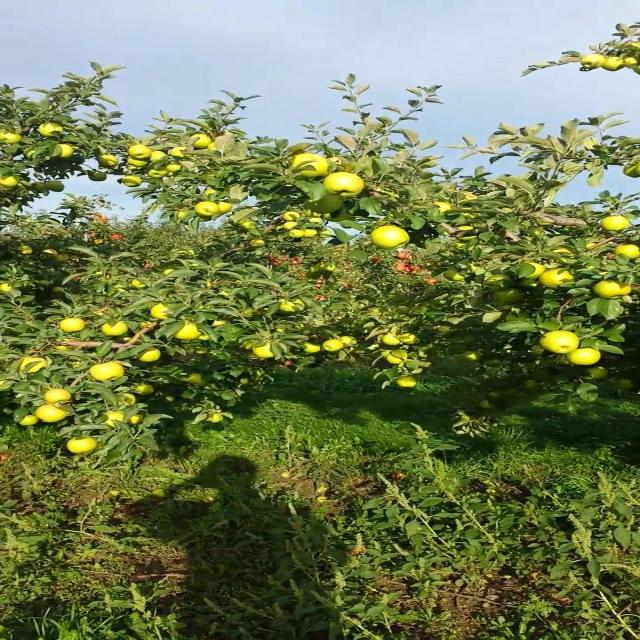apple: (291, 156, 329, 179), (326, 176, 364, 197), (376, 228, 412, 250), (547, 332, 581, 353), (568, 348, 603, 366), (596, 284, 633, 300), (92, 364, 126, 381), (540, 272, 576, 288), (596, 284, 629, 300), (312, 196, 345, 212), (604, 216, 631, 232), (70, 440, 100, 454), (42, 408, 66, 423), (20, 360, 50, 372), (177, 324, 199, 340), (497, 292, 526, 304), (527, 264, 548, 279), (326, 212, 354, 223), (582, 56, 604, 69), (490, 276, 512, 289), (56, 144, 75, 159), (63, 320, 85, 332), (106, 324, 128, 336), (49, 392, 71, 404), (134, 384, 156, 396), (191, 136, 213, 148), (99, 156, 121, 168), (42, 124, 64, 136), (284, 300, 306, 312), (141, 352, 164, 363), (148, 168, 171, 179), (618, 248, 639, 260), (589, 368, 610, 380), (156, 304, 171, 320), (604, 60, 624, 72), (589, 172, 604, 188), (198, 204, 219, 215), (255, 348, 276, 359), (433, 204, 455, 213), (625, 164, 639, 178), (20, 416, 39, 426), (461, 352, 482, 361), (397, 380, 420, 388), (127, 176, 142, 188), (6, 132, 21, 144), (326, 340, 341, 352), (106, 412, 126, 421), (618, 284, 633, 296), (127, 160, 149, 168), (518, 280, 540, 288), (447, 272, 466, 281), (191, 376, 208, 386), (6, 176, 21, 187), (390, 352, 405, 363), (340, 336, 356, 346), (625, 56, 638, 68), (134, 148, 149, 158), (92, 172, 107, 182), (120, 396, 135, 406), (170, 148, 185, 158), (554, 248, 572, 256), (305, 344, 320, 353), (383, 336, 398, 345), (220, 204, 235, 213), (618, 380, 633, 389), (241, 220, 256, 229), (305, 208, 324, 215), (404, 336, 420, 344), (20, 248, 36, 256), (284, 212, 300, 220), (212, 320, 228, 328), (49, 184, 64, 192), (127, 416, 142, 424), (390, 356, 404, 364), (461, 228, 476, 235), (461, 196, 476, 203), (170, 164, 183, 172), (35, 184, 48, 192), (490, 392, 503, 400), (163, 268, 176, 276), (134, 280, 146, 288), (56, 256, 69, 263), (625, 44, 638, 51), (291, 232, 306, 238), (525, 384, 540, 390), (440, 328, 455, 334), (212, 416, 222, 424), (326, 264, 336, 272), (305, 232, 318, 238), (284, 224, 299, 229), (156, 152, 165, 160), (319, 232, 332, 237), (141, 324, 153, 329), (177, 212, 185, 219), (483, 404, 492, 408), (312, 220, 320, 224)
